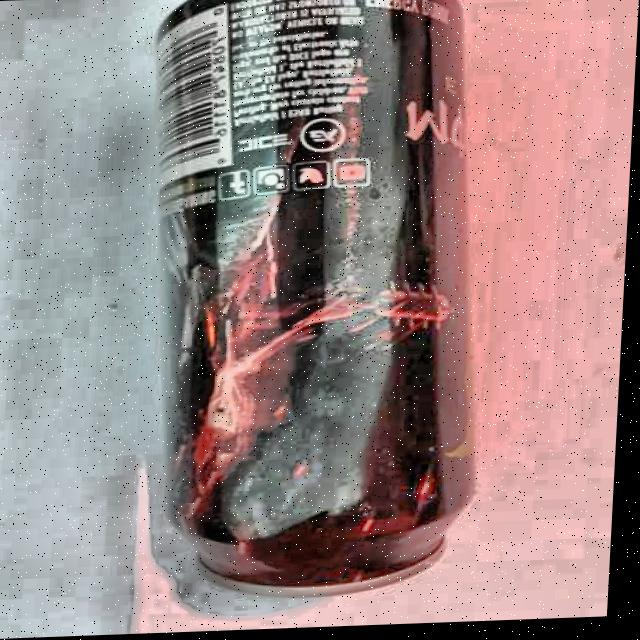metal: (124, 0, 504, 601)
